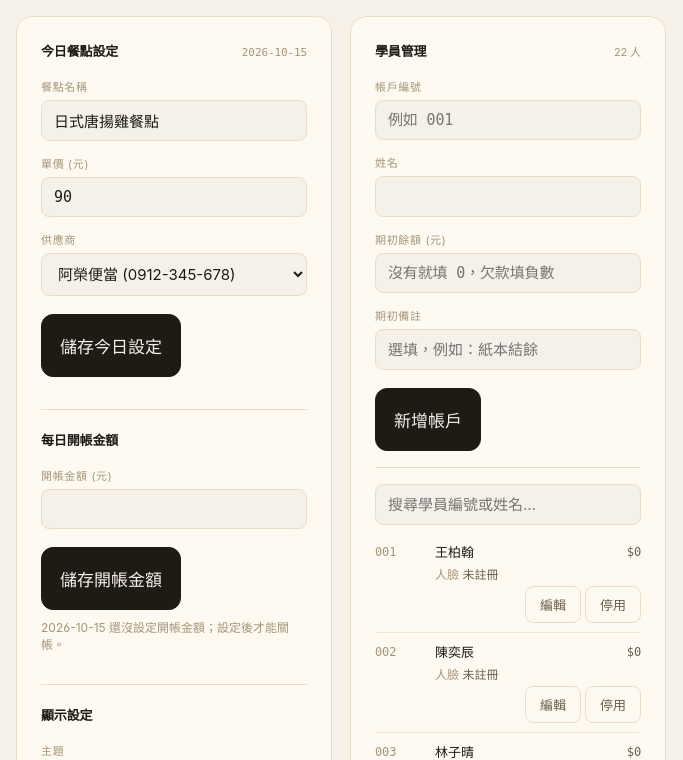
Test: AdminScreen Opening Cash Validation and Confirmation › clears error message when input value changes
The image size is (683, 760).
Type "30000" into the field named "開帳金額" at [174, 509], box [41,489,307,529]
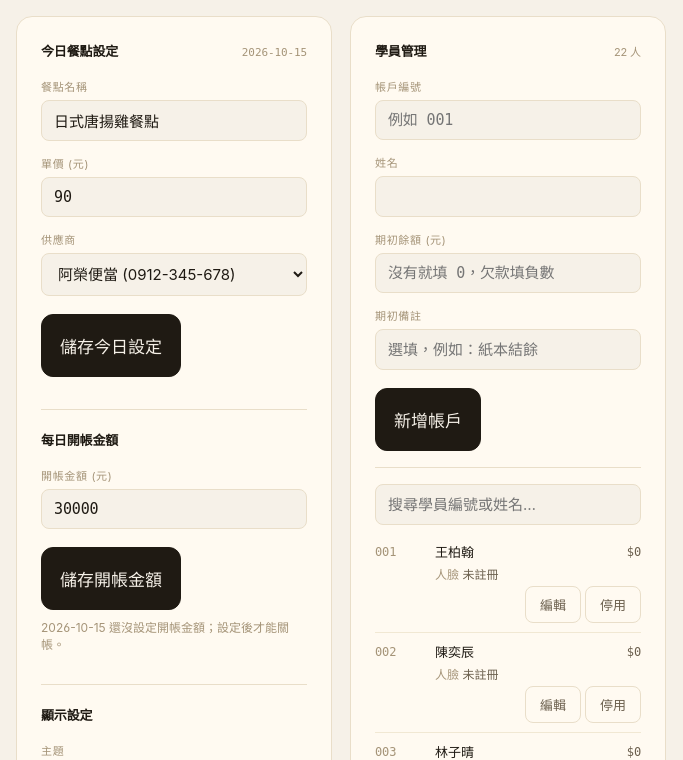
Click the button "儲存開帳金額" at [111, 578], box [41,547,181,610]
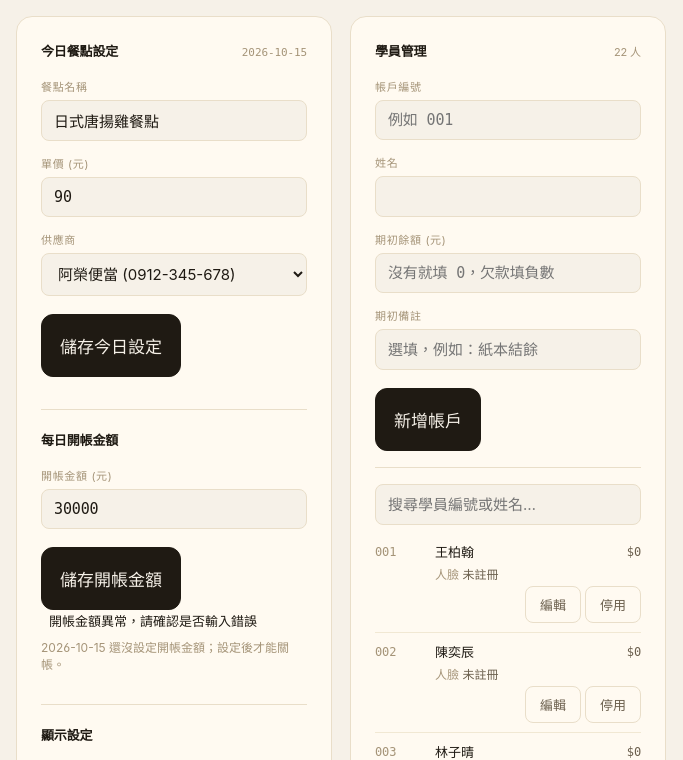
Now the message reads "開帳金額異常，請確認是否輸入錯誤", box [49,613,257,629]
Changing the input clears the error
Replace the text in the field named "開帳金額" with "3000" at [174, 509], box [41,489,307,529]
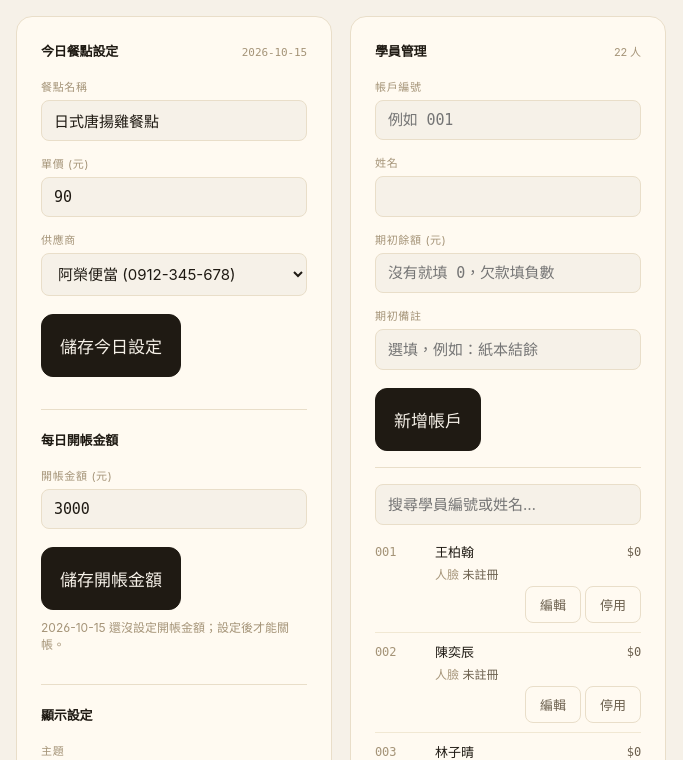
Now the message "開帳金額異常，請確認是否輸入錯誤" is gone
